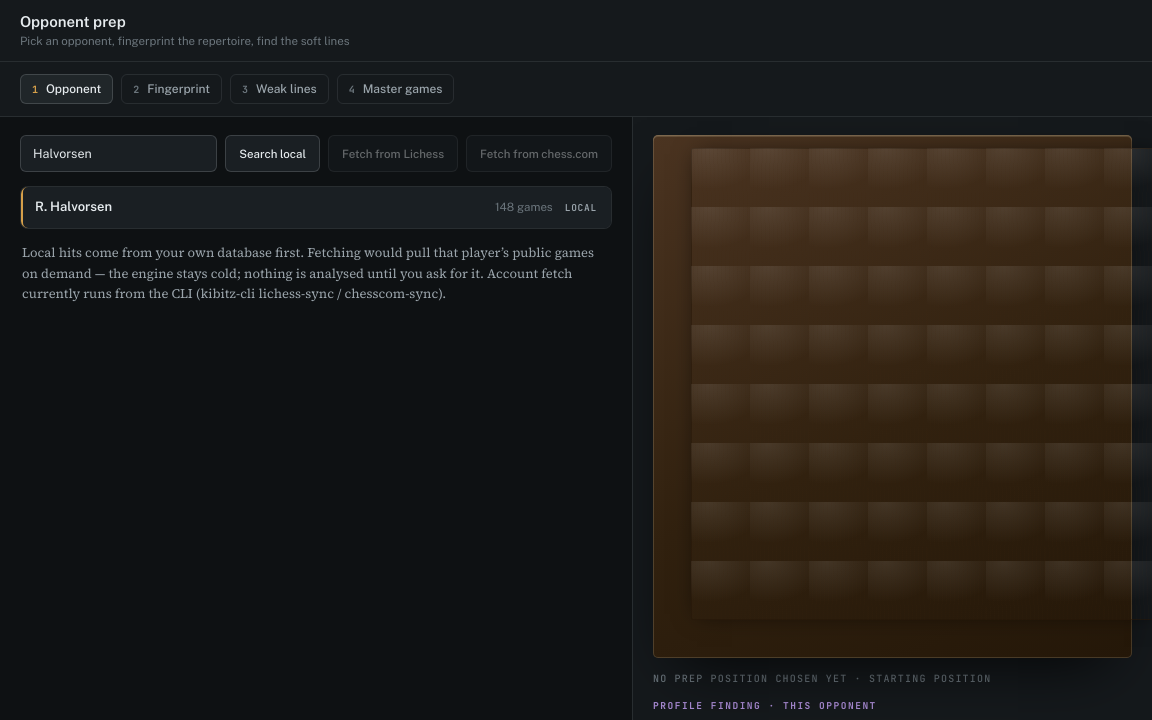
Test: Prep — stepper persistence and back-navigation › weak-line selection carries its name and master count into the chips
Click the text "R. Halvorsen".
click(74, 206)  # box [35,199,112,214]
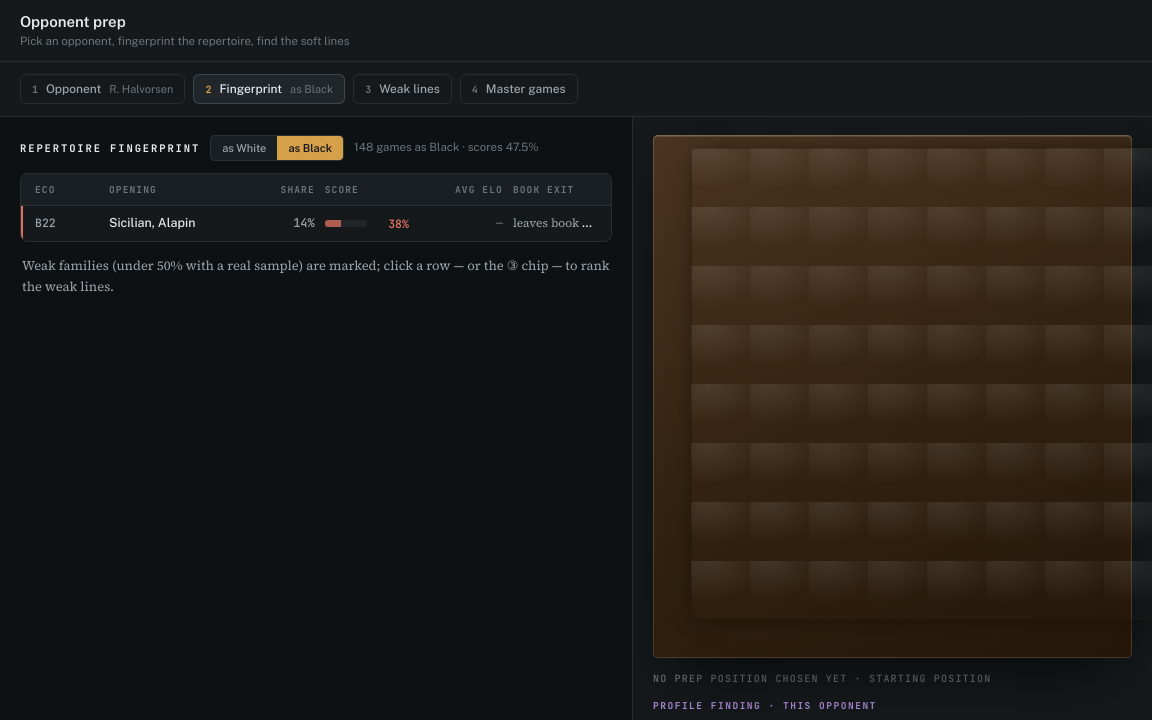
# Jump to step 3 by clicking the fingerprint row.
Click the text "Sicilian, Alapin".
click(152, 222)  # box [109,215,196,230]
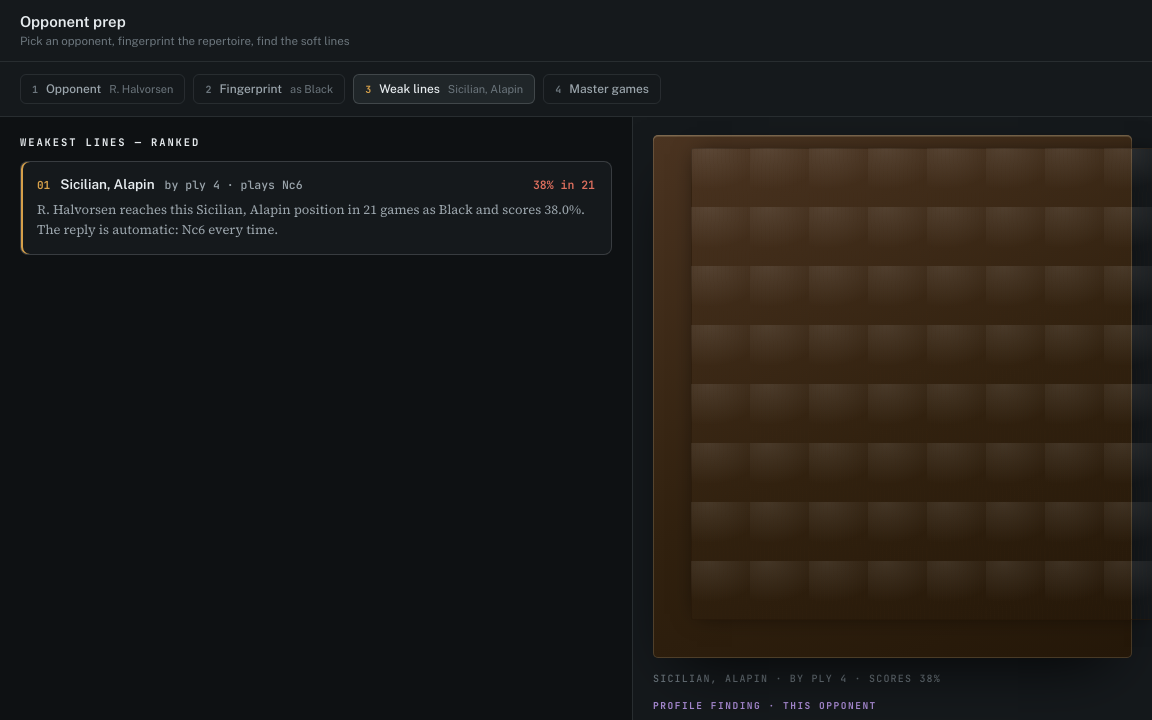
Click the text "38% in 21".
click(564, 185)  # box [533,179,595,190]
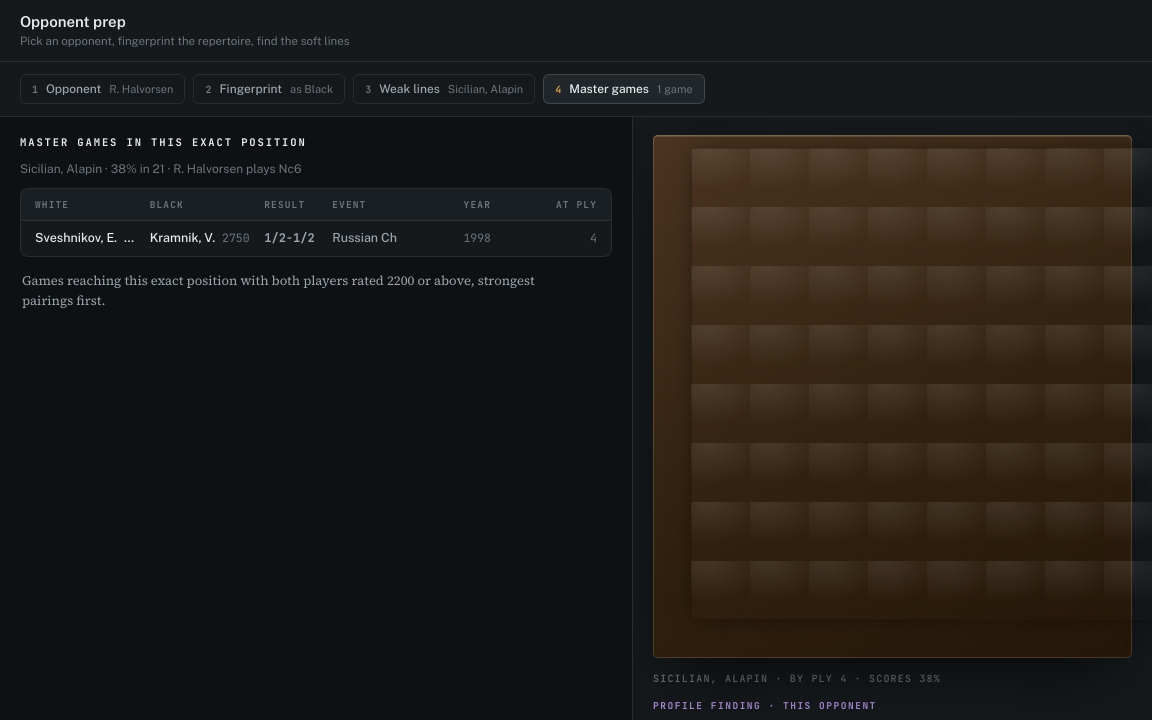
Expected: the text "1 game" is shown, [657,83,693,95]
Expected: the text "MASTER GAMES IN THIS EXACT POSITION" is shown, [20,135,307,149]
Expected: the text "Sveshnikov, E." is shown, [35,230,117,245]
